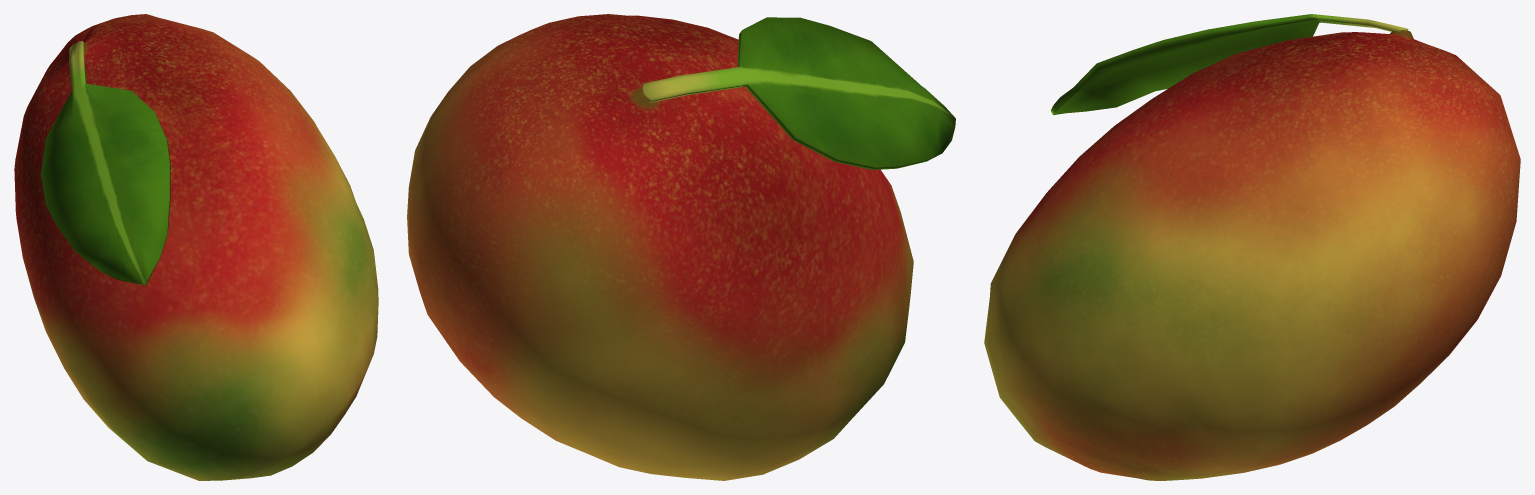
The model's file is mango.glb.
The picture shows the model from 3 angles, left to right: view 1: azimuth 30°, elevation 25°; view 2: azimuth 150°, elevation 25°; view 3: azimuth 270°, elevation 25°; orthographic projection. The views are drawn at different scales.
Visible parts, largest first — view 1: Mango; view 2: Mango; view 3: Mango.
Boxes of the visible parts, left/top/right/bottom form: Mango: left=14, top=14, right=378, bottom=480; Mango: left=407, top=14, right=955, bottom=480; Mango: left=984, top=14, right=1520, bottom=480.
Size of the model in its own units: 0.0917 by 0.1036 by 0.117.
Materials: 1 (1 with a texture image).
